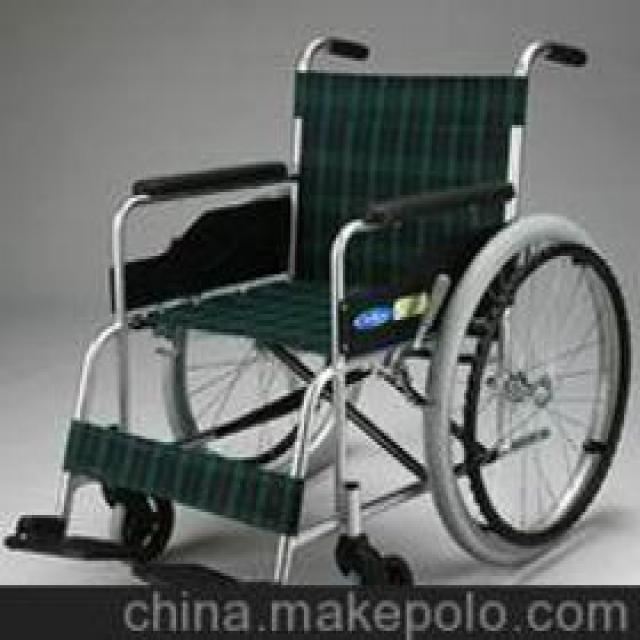wheelchair: (7, 15, 631, 576)
